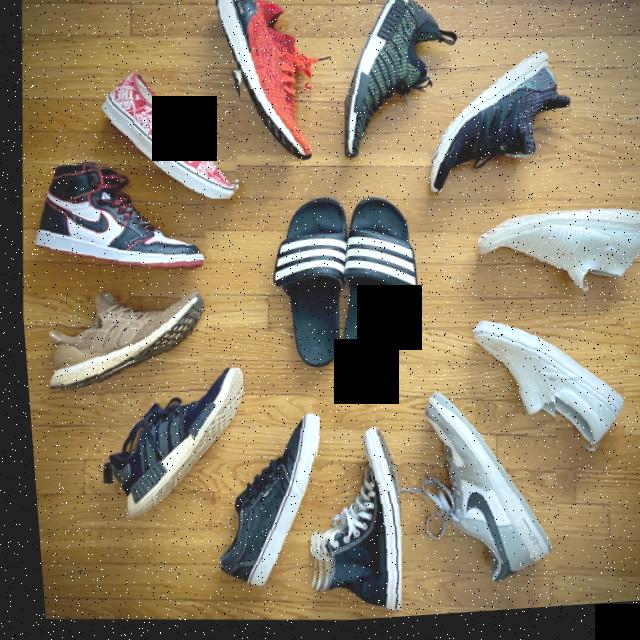shoe: (393, 386, 559, 597), (419, 48, 580, 214), (87, 361, 247, 528), (457, 315, 626, 471), (91, 58, 247, 208), (201, 409, 323, 600), (26, 153, 208, 281), (294, 423, 404, 623), (37, 277, 207, 406), (199, 0, 321, 171), (331, 0, 449, 171), (468, 204, 640, 308)
